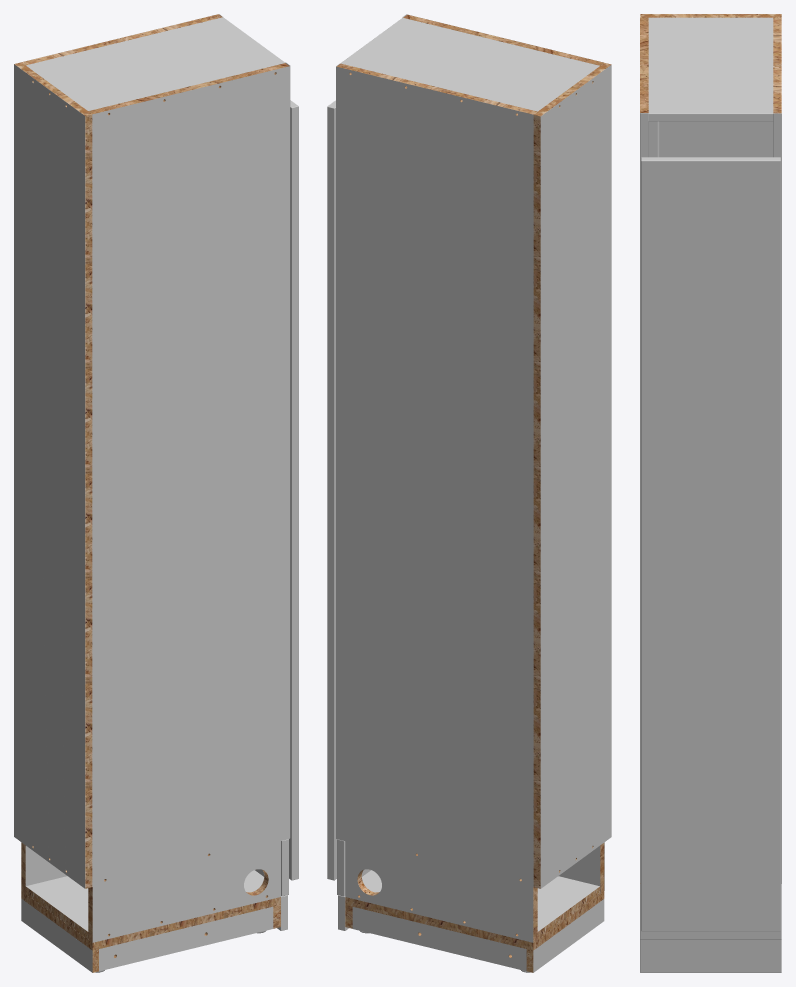
The model's file is Luvio(wood)_High_1C1D.glb.
The picture shows the model from 3 angles, left to right: view 1: azimuth 30°, elevation 25°; view 2: azimuth 150°, elevation 25°; view 3: azimuth 270°, elevation 25°; orthographic projection.
Parts seen in each view (by area): view 1: Body_Main_Left, Body_Main_BackPanel, Body_Main_UpCapTop, Door_Main_Front, Body_Core_BackPanel, Base_Core_Top, Body_Main_Bottom, Base_Main_Back, Body_Core_Left, Body_Main_Core_RightPanel, Body_Main_RightPanel; view 2: Body_Main_RightPanel, Body_Main_BackPanel, Body_Main_UpCapTop, Door_Main_Front, Body_Core_BackPanel, Base_Core_Top, Body_Main_Bottom, Base_Main_Back, Body_Main_Core_RightPanel, Body_Core_Left, Body_Main_Left; view 3: Door_Main_Front, Body_Main_UpCapTop, 0type_woodOne, Body_Main_BackPanel, Body_Main_Plinth, Body_Main_RightPanel, Body_Main_Left, Body_Main_Core_RightPanel, Body_Core_Left, Body_Core_BackPanel, Body_Main_LockProfileLeft.
Boxes of the visible parts, x1,y1,x2,y2 form: Body_Main_Left: [92, 62, 290, 971]; Body_Main_BackPanel: [14, 64, 92, 888]; Body_Main_UpCapTop: [26, 17, 284, 110]; Door_Main_Front: [289, 100, 298, 880]; Body_Core_BackPanel: [14, 62, 92, 888]; Base_Core_Top: [21, 891, 280, 950]; Body_Main_Bottom: [26, 870, 263, 931]; Base_Main_Back: [21, 899, 92, 972]; Body_Core_Left: [88, 63, 289, 957]; Body_Main_Core_RightPanel: [21, 14, 222, 893]; Body_Main_RightPanel: [25, 14, 222, 885]; Body_Main_RightPanel: [336, 63, 533, 971]; Body_Main_BackPanel: [533, 64, 611, 888]; Body_Main_UpCapTop: [340, 18, 599, 111]; Door_Main_Front: [327, 100, 336, 880]; Body_Core_BackPanel: [533, 63, 611, 888]; Base_Core_Top: [345, 891, 604, 950]; Body_Main_Bottom: [362, 870, 599, 931]; Base_Main_Back: [533, 899, 604, 972]; Body_Main_Core_RightPanel: [337, 63, 537, 970]; Body_Core_Left: [403, 14, 604, 893]; Body_Main_Left: [402, 14, 604, 893]; Door_Main_Front: [641, 157, 780, 931]; Body_Main_UpCapTop: [648, 17, 773, 121]; 0type_woodOne: [640, 939, 781, 972]; Body_Main_BackPanel: [659, 121, 773, 157]; Body_Main_Plinth: [640, 884, 781, 939]; Body_Main_RightPanel: [773, 113, 781, 884]; Body_Main_Left: [640, 113, 648, 883]; Body_Main_Core_RightPanel: [773, 17, 781, 113]; Body_Core_Left: [640, 17, 648, 883]; Body_Core_BackPanel: [640, 14, 781, 17]; Body_Main_LockProfileLeft: [648, 121, 659, 157].
Bounding box in the file's own units: 52.25 × 201 × 30.06.
Materials: 15 (9 with a texture image).
